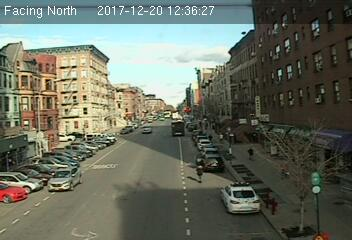car: (47, 167, 86, 192), (204, 155, 224, 172)
police: (218, 181, 261, 212)
ups: (170, 120, 186, 137)
